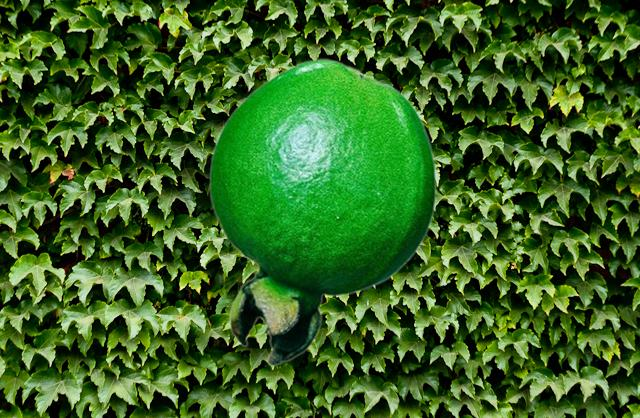guava: (208, 58, 436, 365)
